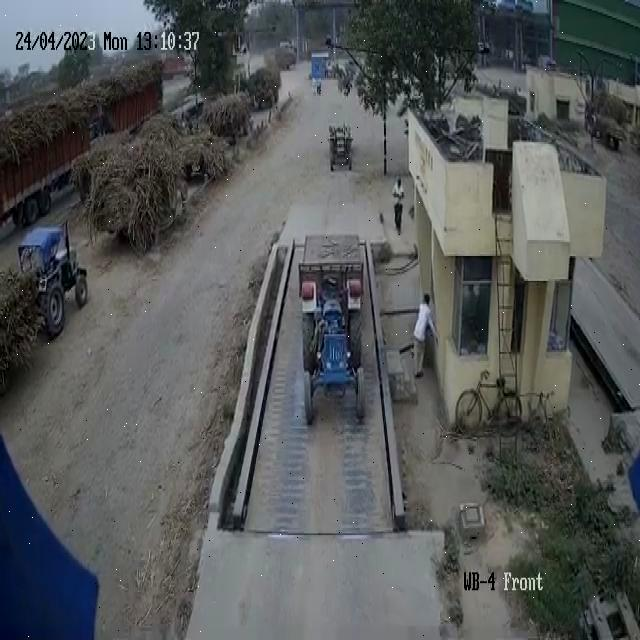Tratores - v5 YOLO V8L 2024-11-13: (290, 276, 378, 438), (16, 211, 94, 340), (328, 118, 356, 178)
